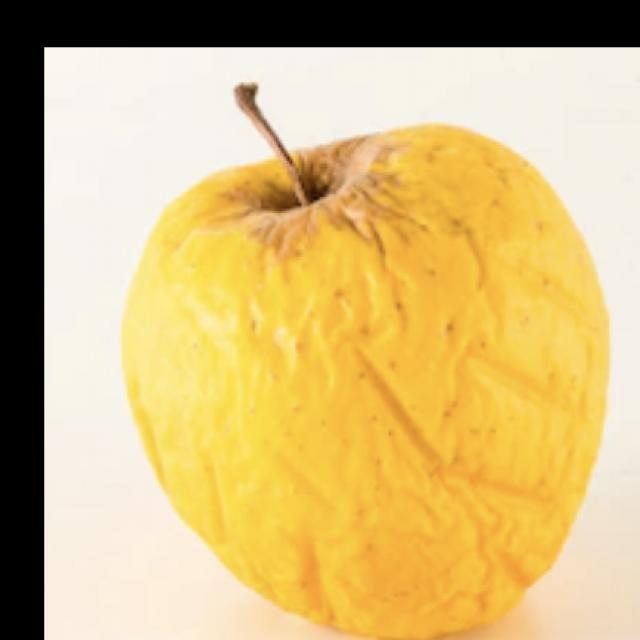Rotten: (126, 140, 640, 626)
